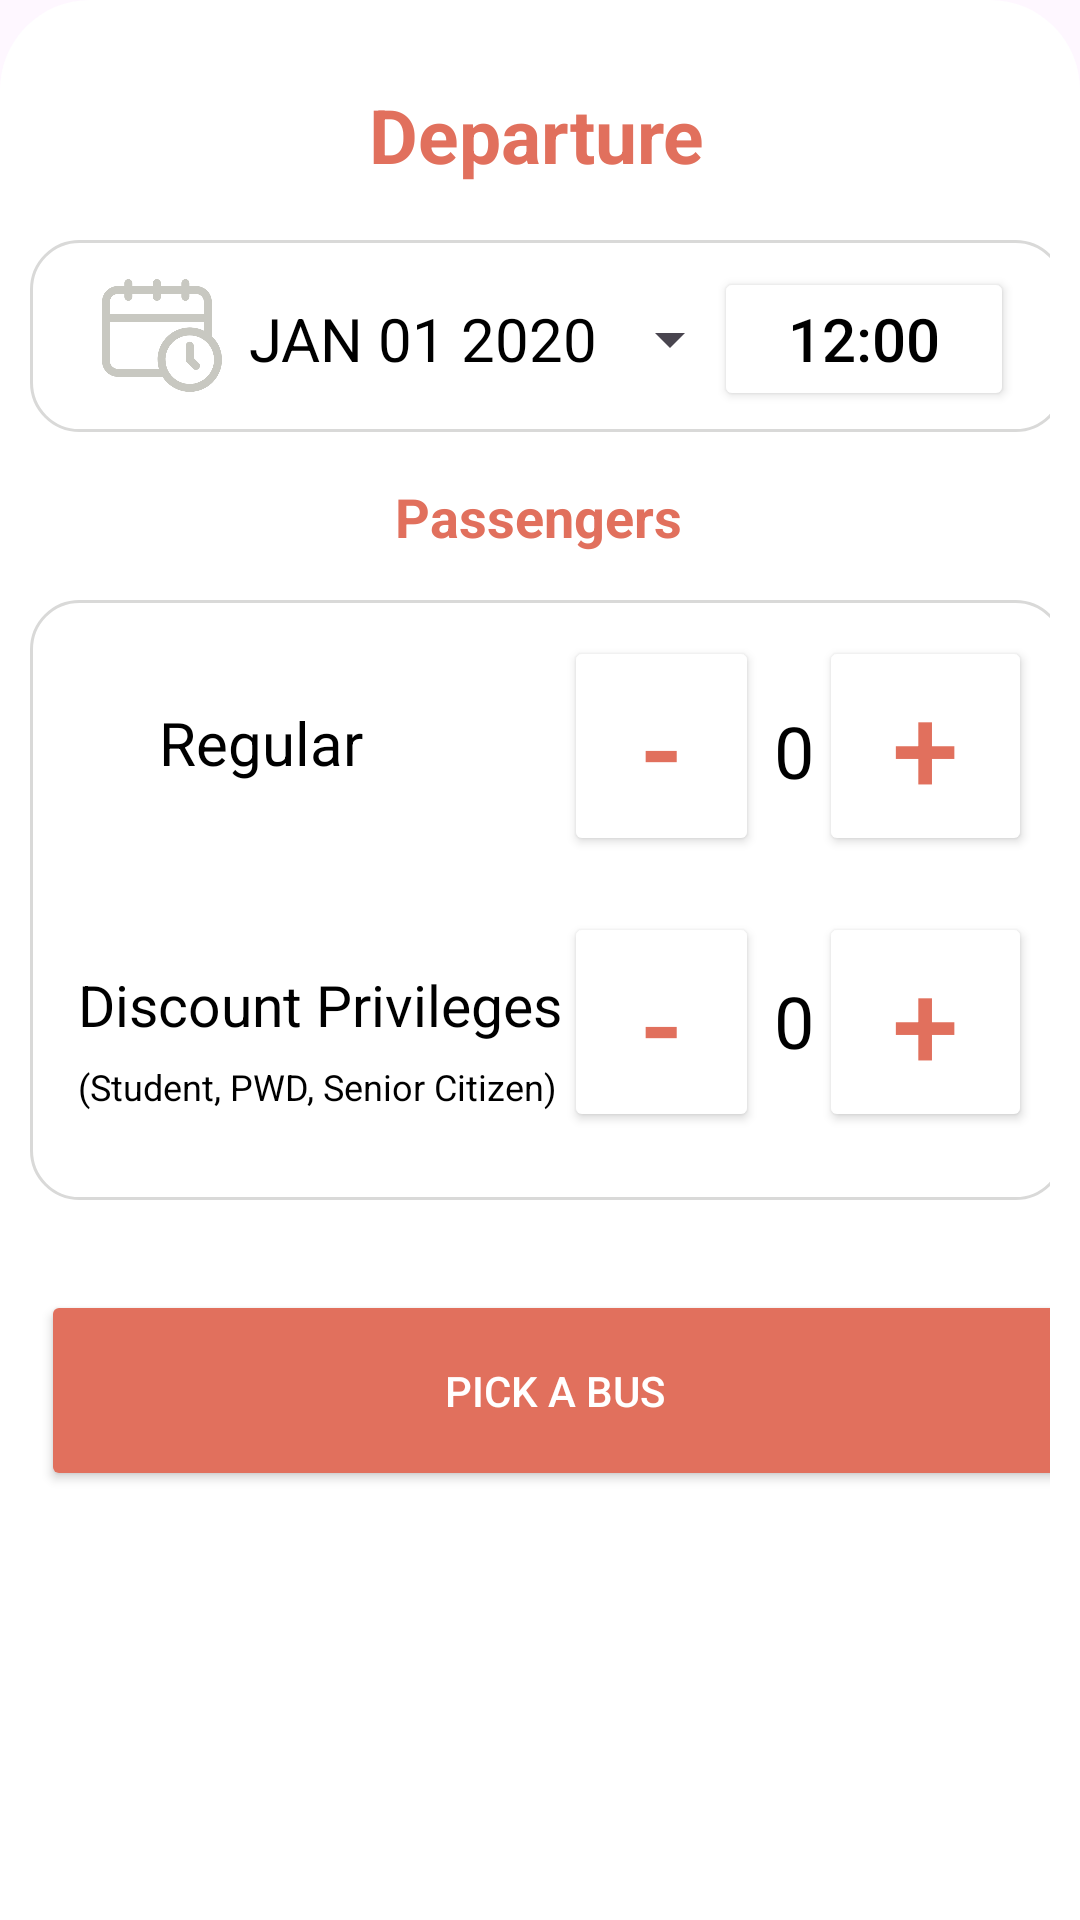

Icons on this 1080px x 1920px Android screen, each with the point to tap as [x,y]:
dateicon: [162,335]
